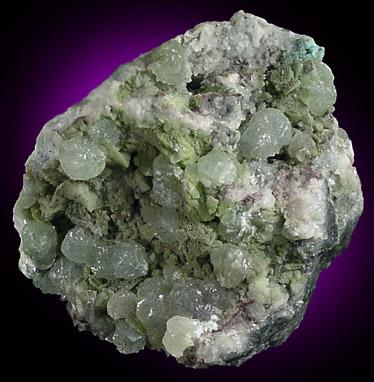calcite: (21, 219, 237, 354), (54, 136, 109, 202), (241, 108, 292, 160), (148, 40, 191, 88), (302, 60, 338, 116), (211, 244, 251, 288), (153, 155, 184, 208), (89, 118, 122, 146)
